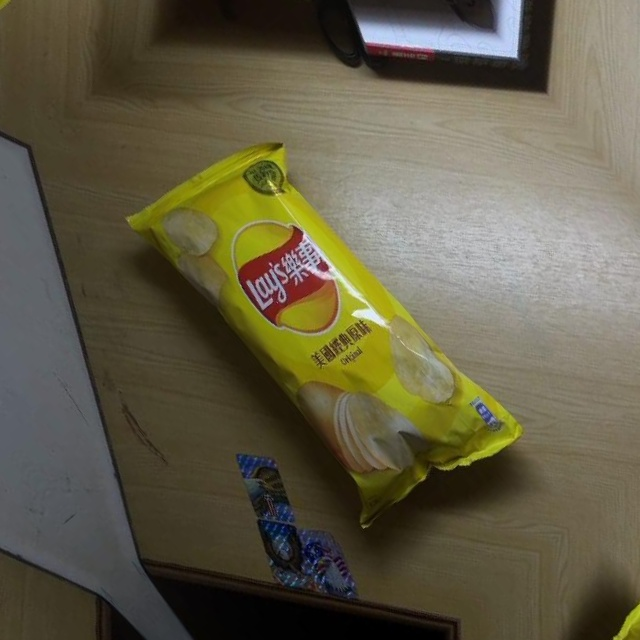Lay-s-original: (108, 108, 529, 557)
